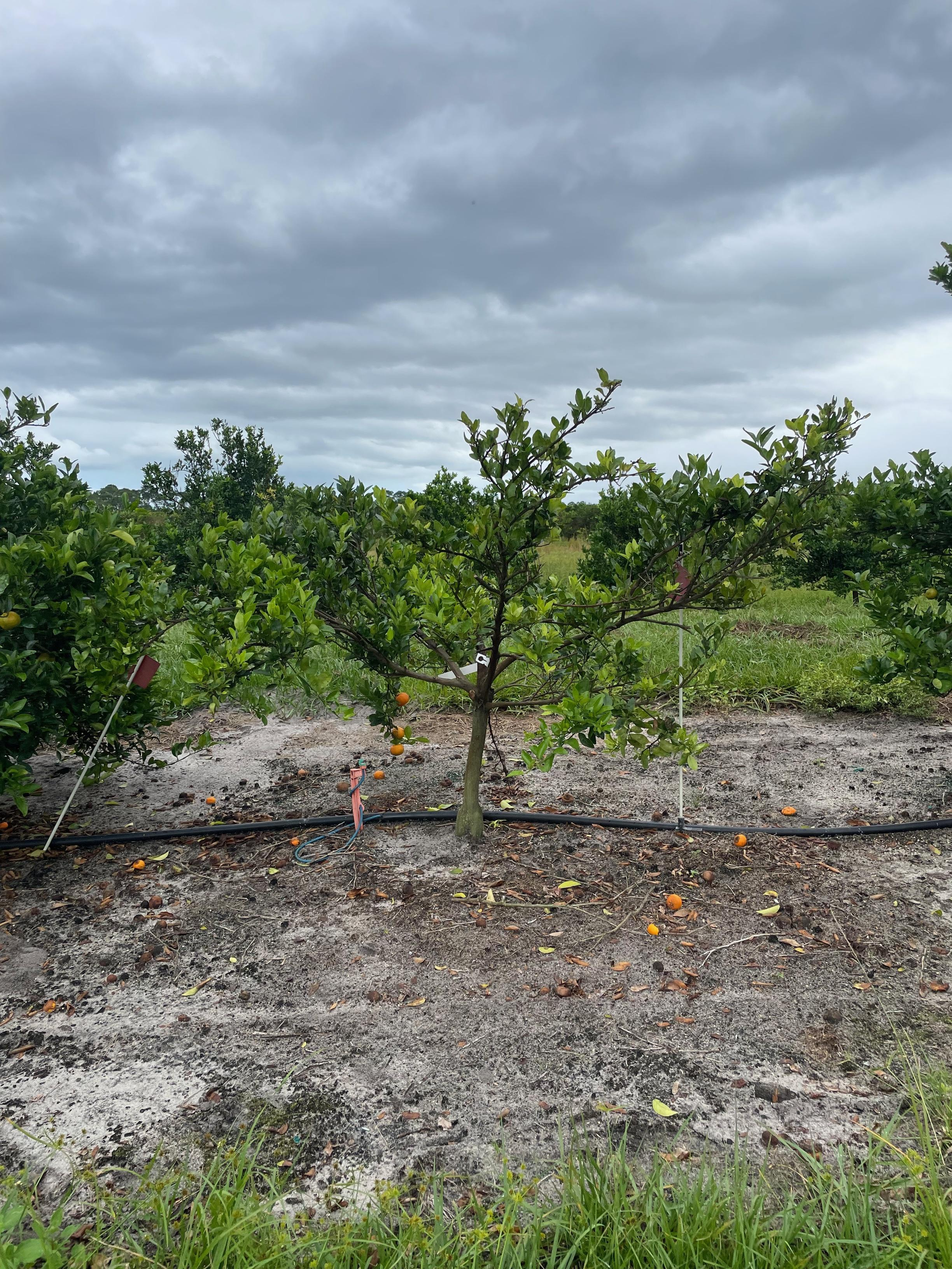fruit_on_ground: (0, 607, 23, 632), (394, 691, 411, 708), (390, 725, 407, 741), (389, 742, 405, 757), (924, 587, 939, 601)
fruit_on_tree: (664, 892, 684, 911), (732, 831, 748, 848), (147, 893, 163, 909), (700, 868, 717, 883), (42, 998, 58, 1013), (646, 921, 661, 937), (131, 856, 147, 870), (335, 780, 350, 794), (780, 804, 797, 816), (560, 791, 575, 804), (650, 810, 664, 823), (140, 950, 153, 963), (373, 769, 386, 781), (288, 836, 301, 847), (296, 767, 309, 778), (205, 795, 217, 806), (0, 820, 9, 830)
